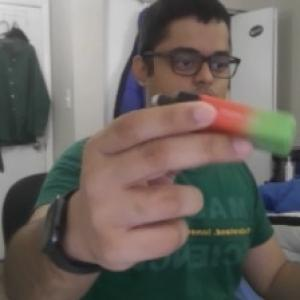Swift-E-Ciggirate: (147, 78, 300, 152)
